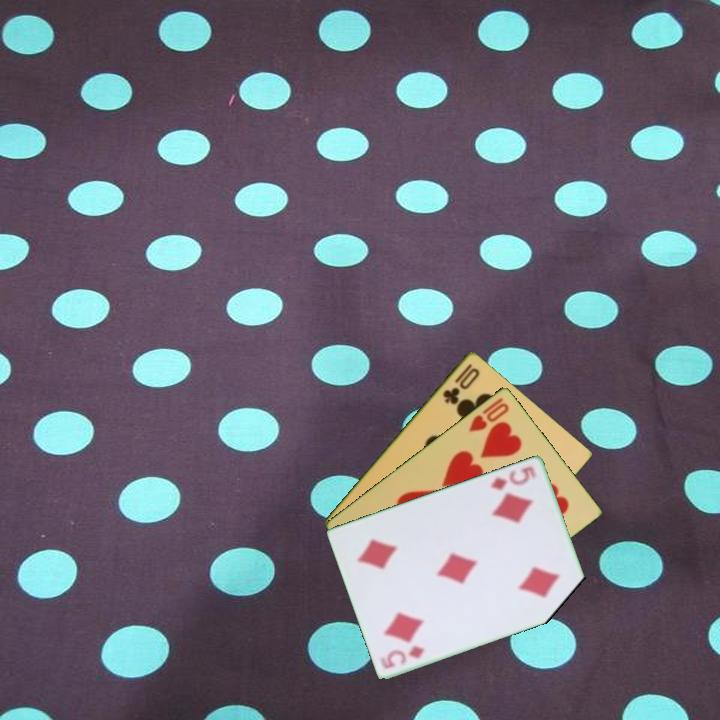10c: (439, 360, 483, 407)
10h: (465, 393, 512, 435)
5d: (487, 462, 540, 493), (376, 641, 427, 671)
